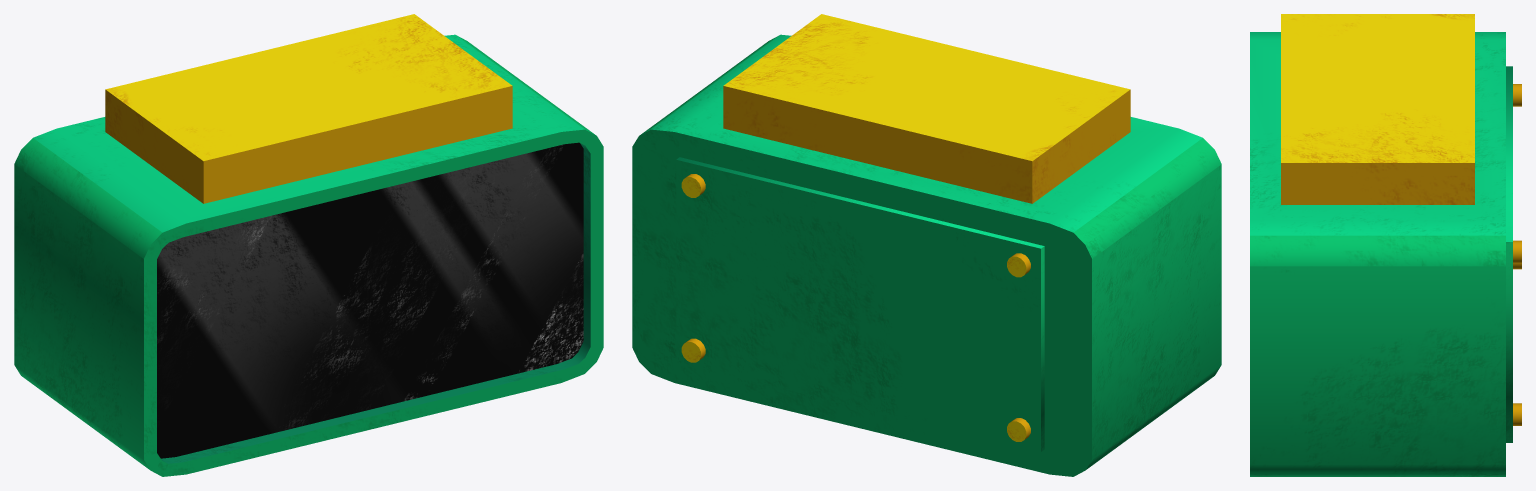
Rendered from 알람시계.fbx.
The picture shows the model from 3 angles, left to right: view 1: azimuth 30°, elevation 25°; view 2: azimuth 150°, elevation 25°; view 3: azimuth 270°, elevation 25°; orthographic projection.
Visible parts, largest first — view 1: 알람시계; view 2: 알람시계; view 3: 알람시계.
Part boxes in pixels (left/top/right/bottom): 알람시계: left=14, top=14, right=603, bottom=476; 알람시계: left=632, top=14, right=1221, bottom=476; 알람시계: left=1250, top=14, right=1521, bottom=476.
Bounding box in the file's own units: 410 × 250 × 212.
1 material, 1 textured.
